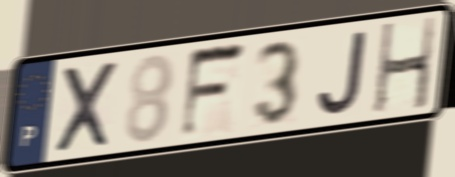3: (251, 37, 304, 127)
8: (121, 50, 178, 148)
F: (177, 38, 249, 143)
H: (372, 14, 439, 118)
J: (315, 27, 371, 118)
X: (52, 57, 121, 157)
